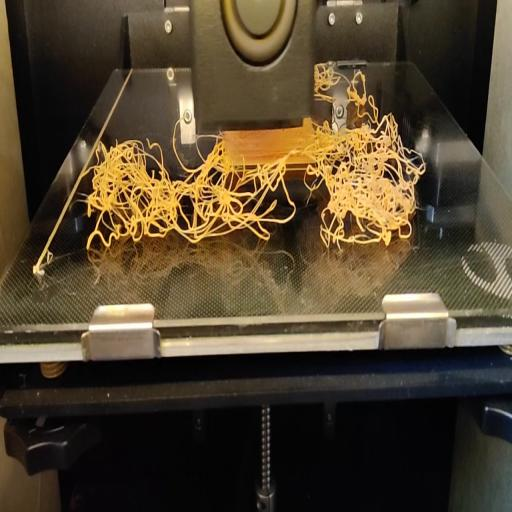spaghetti: (80, 130, 428, 256), (313, 58, 400, 130)
